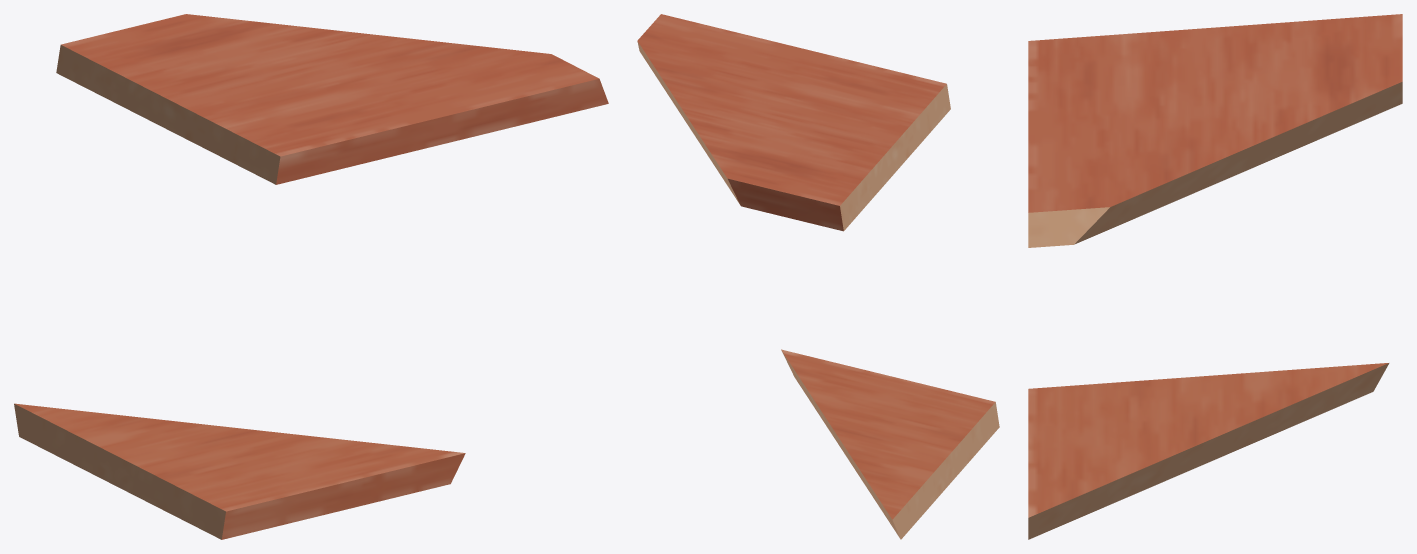
The model's file is pot_rack_s00.fbx.
3 views of the same model, side by side, from view 1: azimuth 30°, elevation 25°; view 2: azimuth 150°, elevation 25°; view 3: azimuth 270°, elevation 25° (orthographic). The views are drawn at different scales.
Parts seen in each view (by area): view 1: pot_rack_s00; view 2: pot_rack_s00; view 3: pot_rack_s00.
Part boxes in pixels (bbox=[...]): pot_rack_s00: bbox=[14, 14, 608, 539]; pot_rack_s00: bbox=[637, 14, 999, 539]; pot_rack_s00: bbox=[1028, 14, 1402, 539].
Bounding box in the file's own units: 2.65 × 2.16 × 1.8.
